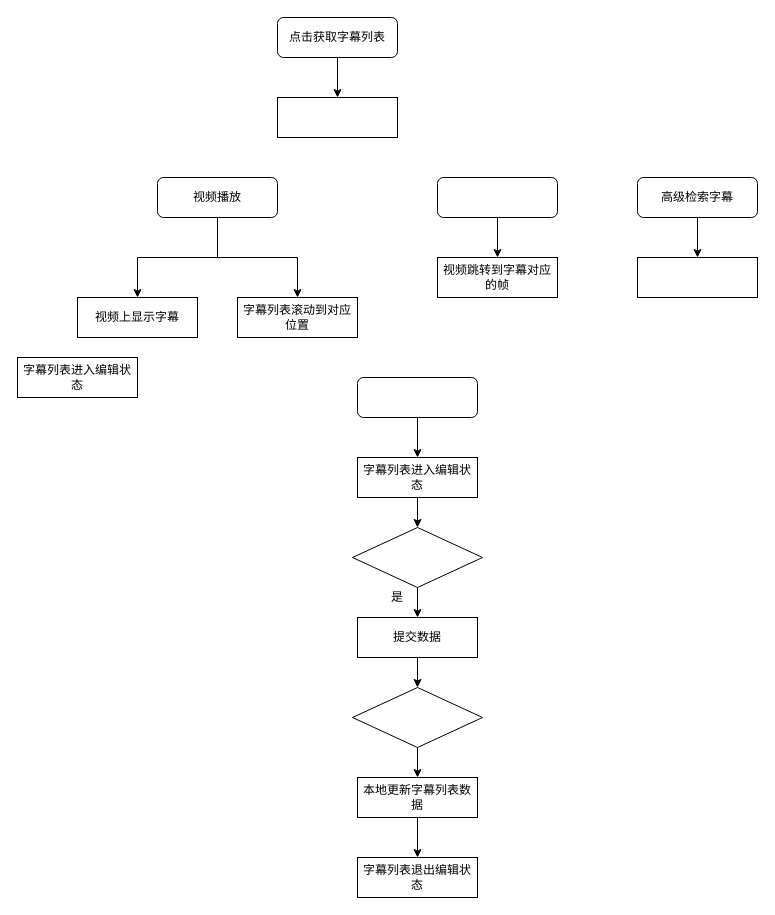
Image size: 775x915. Some labels were removed from this diagram. Here are the shapes that lost their labels. From the top down, the centre of each, then its label:
At point (337, 117): "显示字幕列表".
At point (497, 197): "点击字幕".
At point (697, 277): "字幕列表高亮内容".
At point (417, 397): "点击编辑".
At point (417, 557): "是否点击保存？".
At point (417, 717): "是否成功？".
